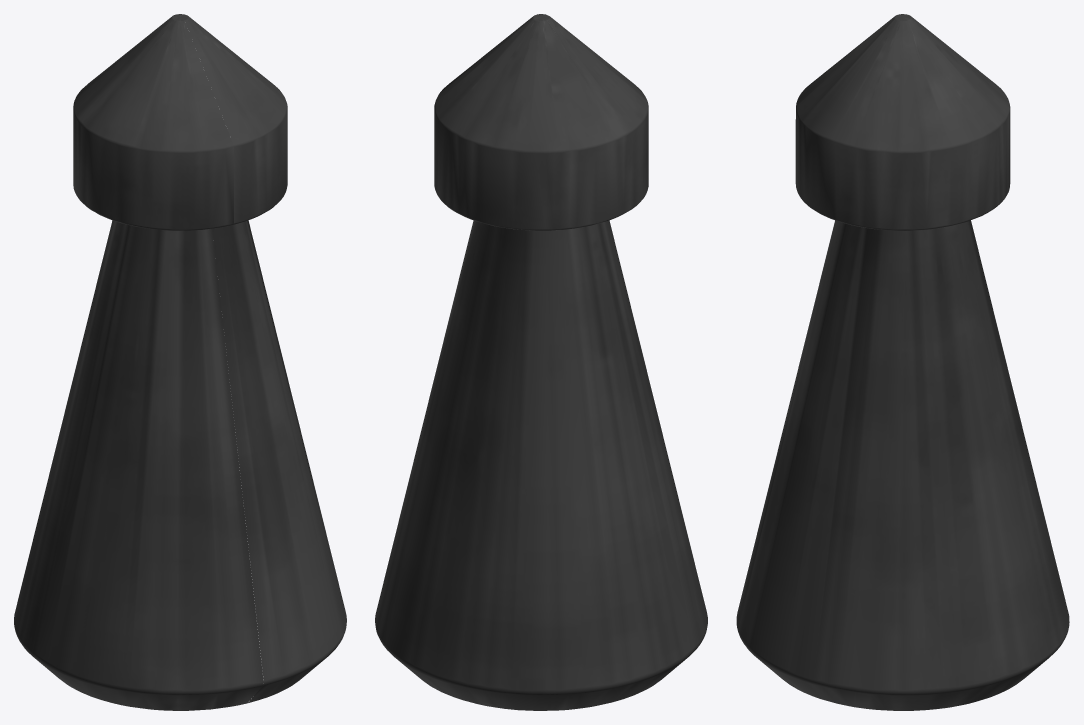
Rendered from 06_strelec_cerna.glb.
3 views of the same model, side by side, from view 1: azimuth 30°, elevation 25°; view 2: azimuth 150°, elevation 25°; view 3: azimuth 270°, elevation 25° (orthographic).
Visible parts, largest first — view 1: 06_strelec_cerna; view 2: 06_strelec_cerna; view 3: 06_strelec_cerna.
Part boxes in pixels (x1=…): 06_strelec_cerna: x1=14, y1=14, x2=346, y2=710; 06_strelec_cerna: x1=375, y1=14, x2=707, y2=710; 06_strelec_cerna: x1=736, y1=14, x2=1069, y2=710.
Size of the model in its own units: 0.0385 by 0.0813 by 0.0385.
Materials: 1 (1 with a texture image).
